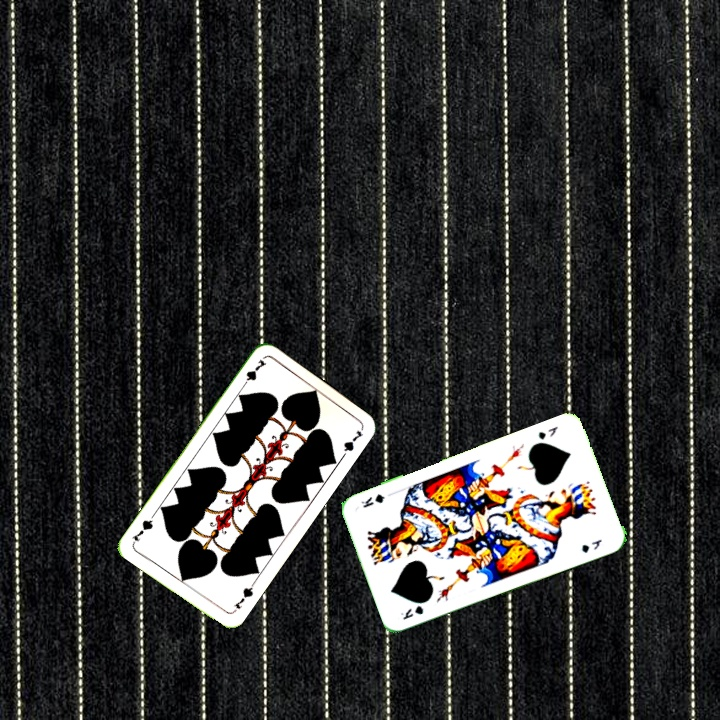G7: (237, 355, 268, 391), (230, 579, 257, 612)
GK: (396, 601, 426, 622), (534, 422, 560, 442)
